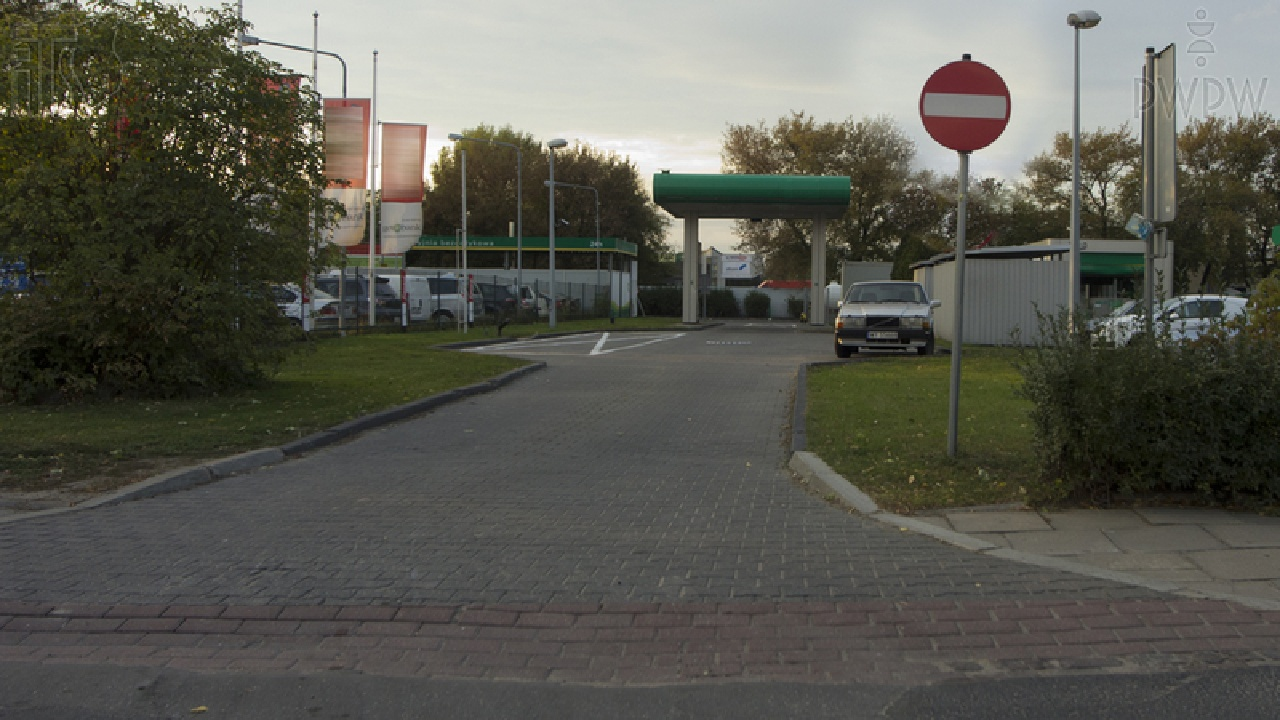B2: (916, 60, 1012, 155)
